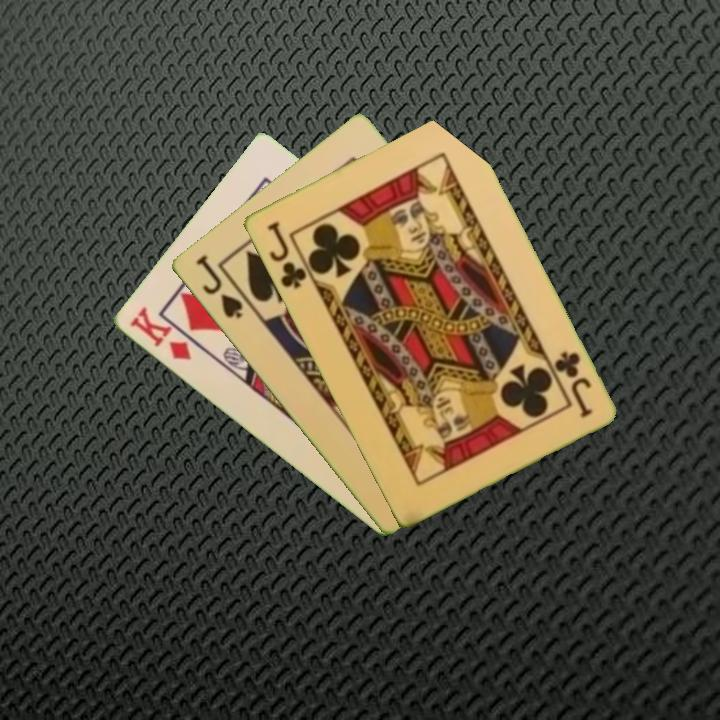Jc: (263, 217, 309, 292), (550, 347, 595, 420)
Js: (192, 251, 245, 322)
Kd: (125, 303, 194, 364)
